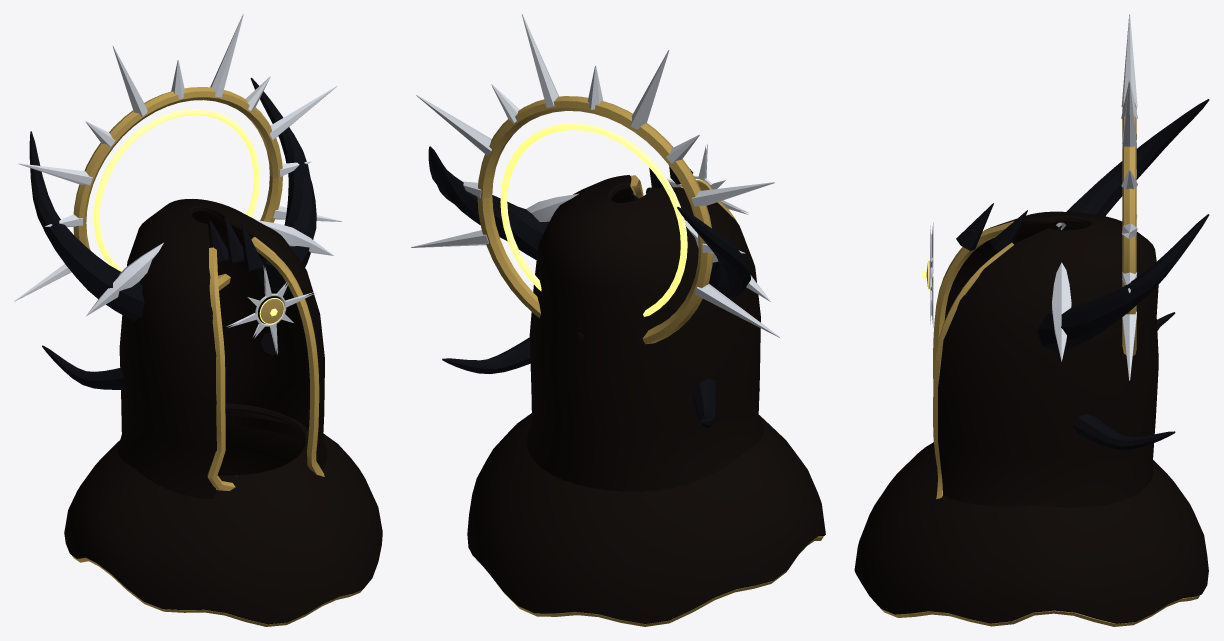
Rendered from esc_null_reaper_helm.glb.
3 views of the same model, side by side, from view 1: azimuth 30°, elevation 25°; view 2: azimuth 150°, elevation 25°; view 3: azimuth 270°, elevation 25° (orthographic). The views are drawn at different scales.
Parts seen in each view (by area): view 1: esc_null_reaper_helm; view 2: esc_null_reaper_helm; view 3: esc_null_reaper_helm.
Boxes of the visible parts, bbox=[...] form: esc_null_reaper_helm: bbox=[14, 14, 382, 626]; esc_null_reaper_helm: bbox=[411, 14, 825, 626]; esc_null_reaper_helm: bbox=[854, 14, 1209, 626].
Bounding box in the file's own units: 0.7147 × 1.04 × 0.6273.
